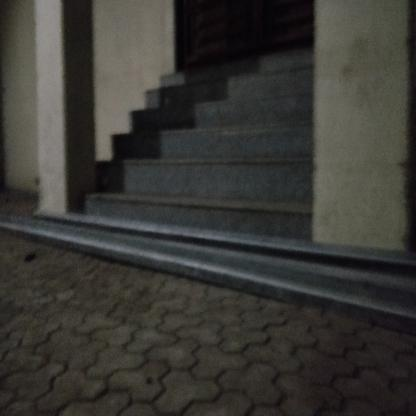stairs: (164, 51, 312, 229)
